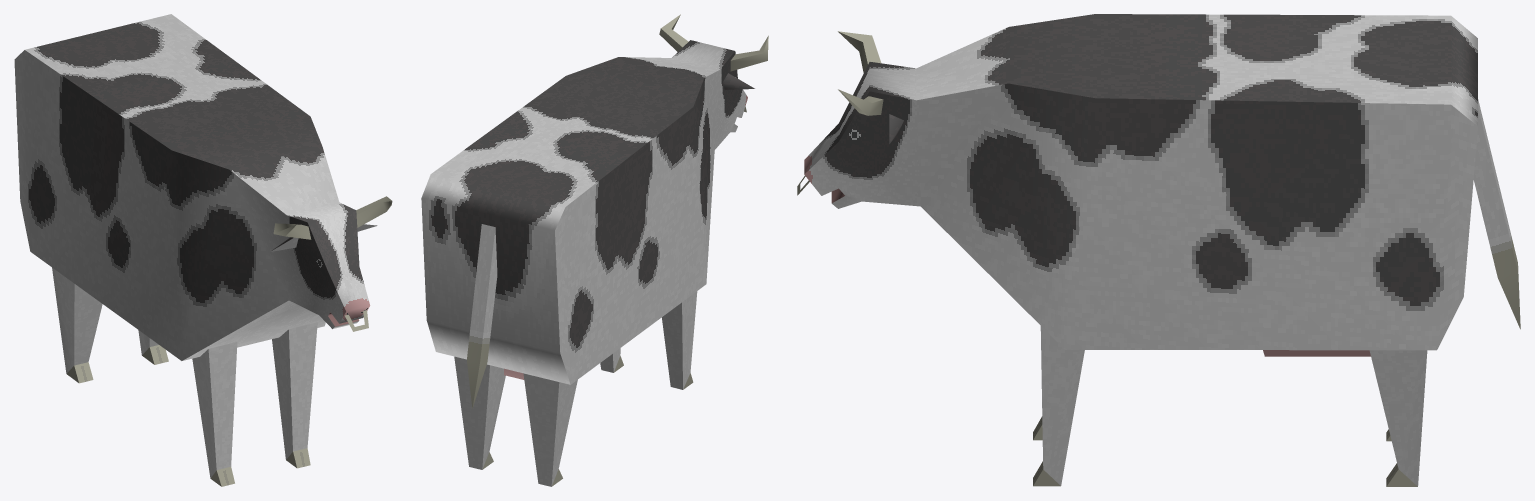
File: Paratypology.glb
The picture shows the model from 3 angles, left to right: view 1: azimuth 30°, elevation 25°; view 2: azimuth 150°, elevation 25°; view 3: azimuth 270°, elevation 25°; orthographic projection. The views are drawn at different scales.
Parts seen in each view (by area): view 1: part_0; view 2: part_0; view 3: part_0.
Part boxes in pixels (bbox=[...]): part_0: bbox=[14, 14, 392, 486]; part_0: bbox=[421, 14, 768, 486]; part_0: bbox=[797, 14, 1520, 486].
Bounding box in the file's own units: 1.54 × 3.27 × 5.29.
1 material, 1 textured.
